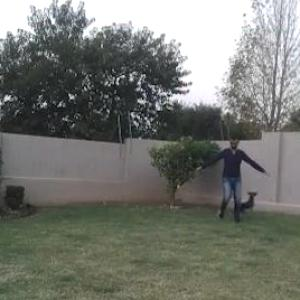land: (183, 130, 264, 227)
